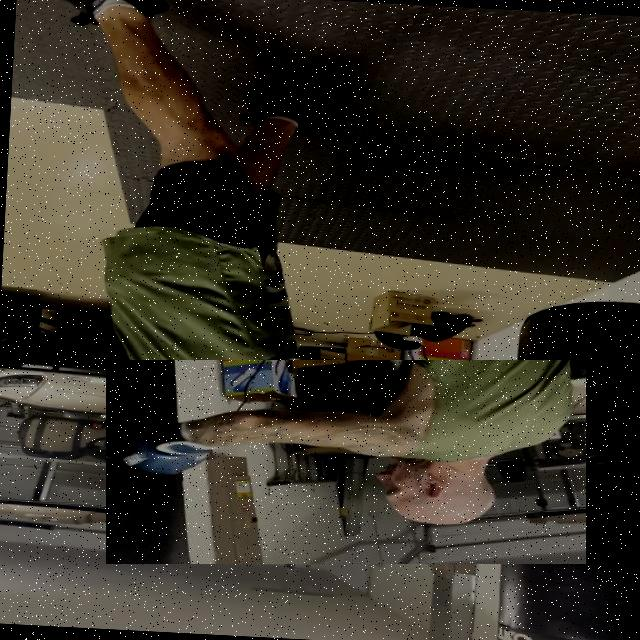punch: (106, 360, 586, 564)
